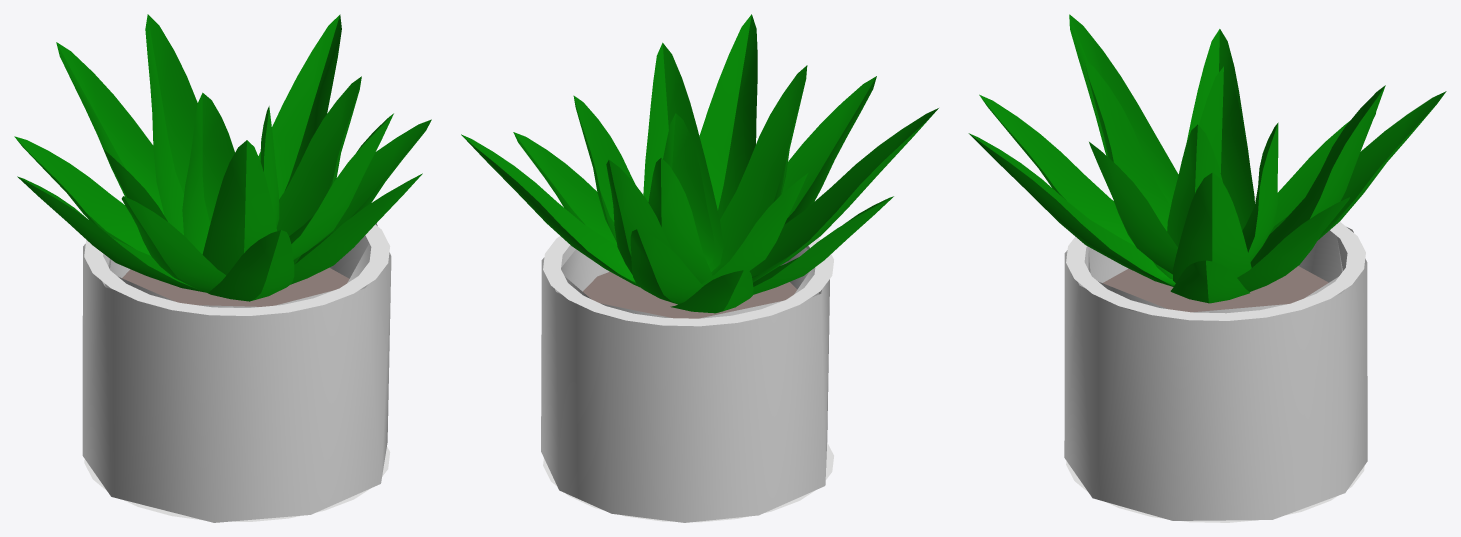
Rendered from plant_interior2.glb.
3 views of the same model, side by side, from view 1: azimuth 30°, elevation 25°; view 2: azimuth 150°, elevation 25°; view 3: azimuth 270°, elevation 25° (orthographic). The views are drawn at different scales.
Parts seen in each view (by area): view 1: plant_interior; view 2: plant_interior; view 3: plant_interior.
Part boxes in pixels (x1=…): plant_interior: x1=14, y1=14, x2=431, y2=522; plant_interior: x1=461, y1=14, x2=938, y2=522; plant_interior: x1=968, y1=14, x2=1446, y2=522.
Bounding box in the file's own units: 0.00158 × 0.00141 × 0.00164.
